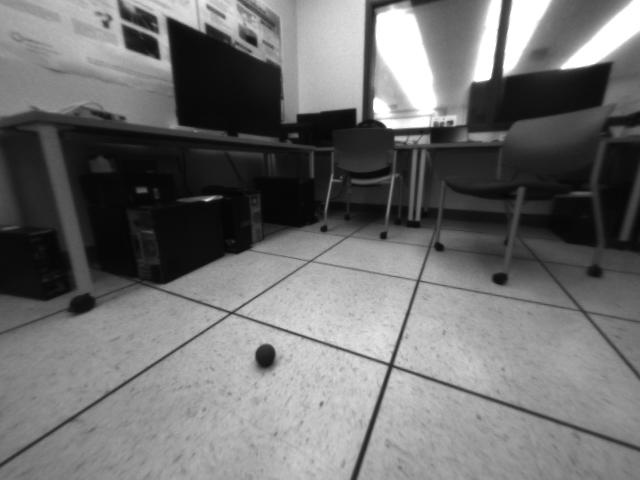dogtoy: (243, 336, 285, 371)
